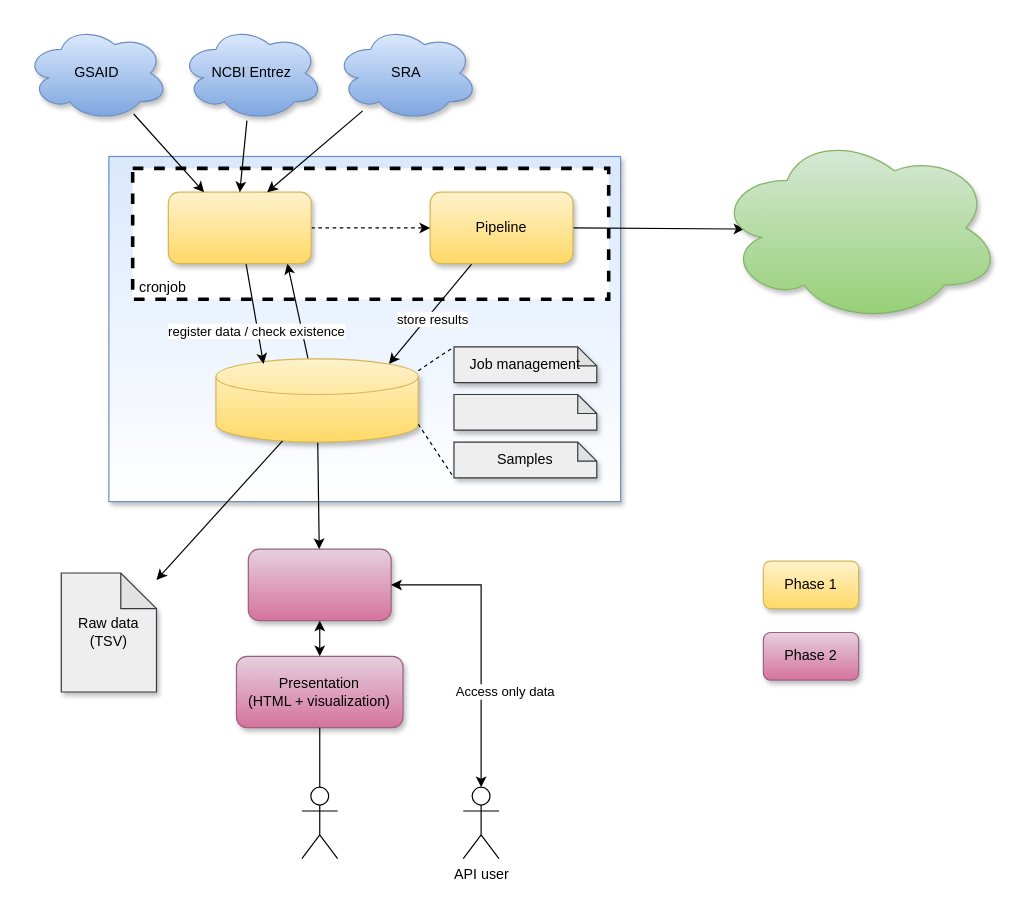
Image size: 1029x904. Some labels were removed from this diagram. The shapes that lost their labels are listed below. From the top down, each one's centre as x and y in pixels, then its label:
the point at 240,229: Download
the point at 859,229: HPC cluster (slurm)
the point at 317,401: SQL database (postgres)
the point at 526,414: Variants
the point at 320,586: API
the point at 319,822: Web user
